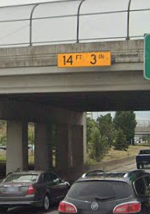1: (61, 54, 66, 66)
3: (88, 52, 98, 65)
4: (66, 54, 73, 66)
overheadsign: (57, 51, 112, 69)
